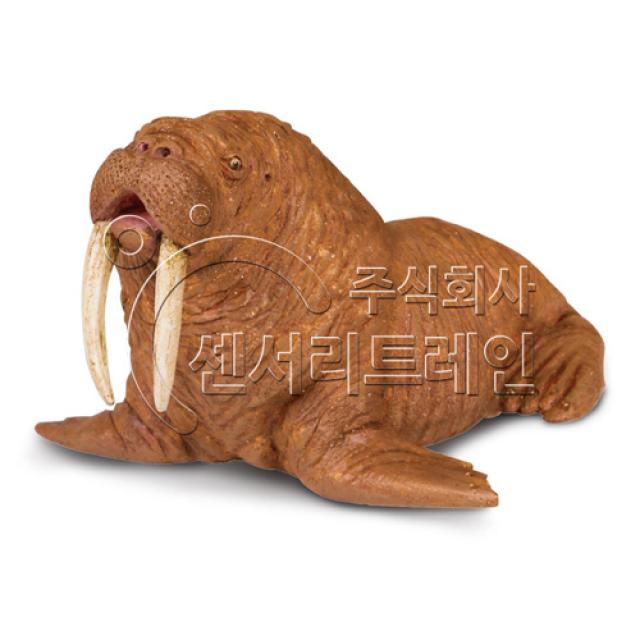walrus: (48, 81, 614, 536)
